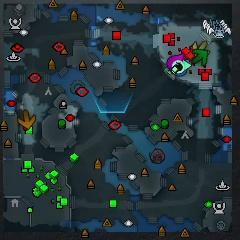p1: (174, 60, 189, 76)
p2: (172, 59, 192, 73)
p2Clone: (172, 60, 185, 74)
p3: (167, 53, 184, 69)
x2: (192, 41, 208, 51)
x4: (191, 49, 209, 65)
x5: (18, 110, 36, 129)
